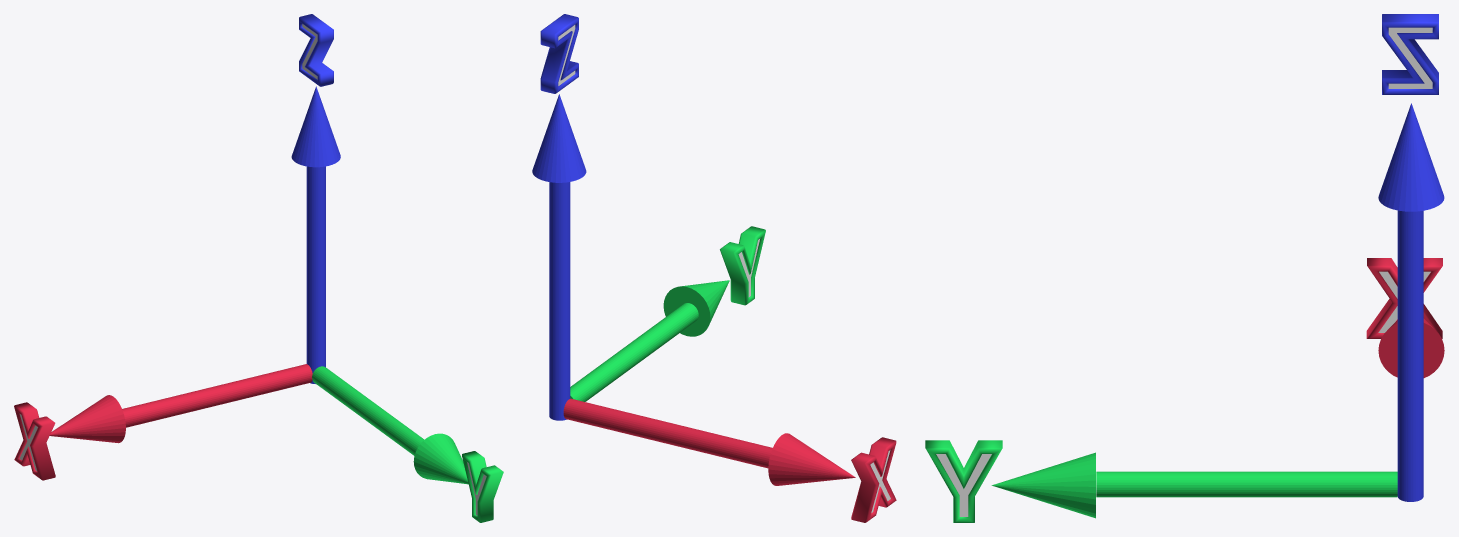
Rendered from coordinate_system.fbx.
3 renders of one model, left to right at view 1: azimuth 30°, elevation 25°; view 2: azimuth 150°, elevation 25°; view 3: azimuth 270°, elevation 25°, orthographic. The views are drawn at different scales.
Parts seen in each view (by area): view 1: Z axis, X axis, Y axis, X text outline, Y text outline, Z text outline; view 2: Z axis, X axis, Y axis, X text outline, Z text outline, Y text outline; view 3: Z axis, Y axis, Z text outline, Y text outline, X text outline, X axis, Z text, Y text.
Part boxes in pixels (x1,y1,x2,y2): Z axis: [291, 86, 340, 383]; X axis: [49, 364, 312, 443]; Y axis: [312, 366, 468, 484]; X text outline: [14, 402, 55, 480]; Y text outline: [462, 451, 503, 522]; Z text outline: [299, 14, 333, 86]; Z axis: [532, 94, 586, 420]; X axis: [563, 398, 855, 485]; Y axis: [570, 280, 729, 401]; X text outline: [851, 437, 896, 522]; Z text outline: [540, 14, 578, 93]; Y text outline: [720, 226, 765, 305]; Z axis: [1378, 103, 1444, 501]; Y axis: [991, 452, 1397, 518]; Z text outline: [1382, 14, 1438, 94]; Y text outline: [925, 440, 1002, 522]; X text outline: [1366, 258, 1442, 338]; X axis: [1378, 318, 1444, 377]; Z text: [1388, 27, 1432, 88]; Y text: [936, 454, 991, 516].
Bounding box in the file's own units: 274 × 313 × 293.
